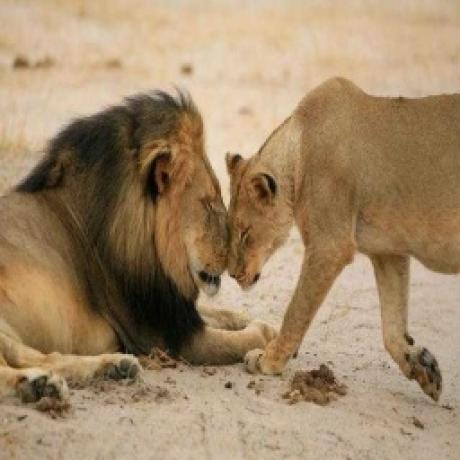Lion: (0, 83, 284, 418), (228, 63, 460, 404)
